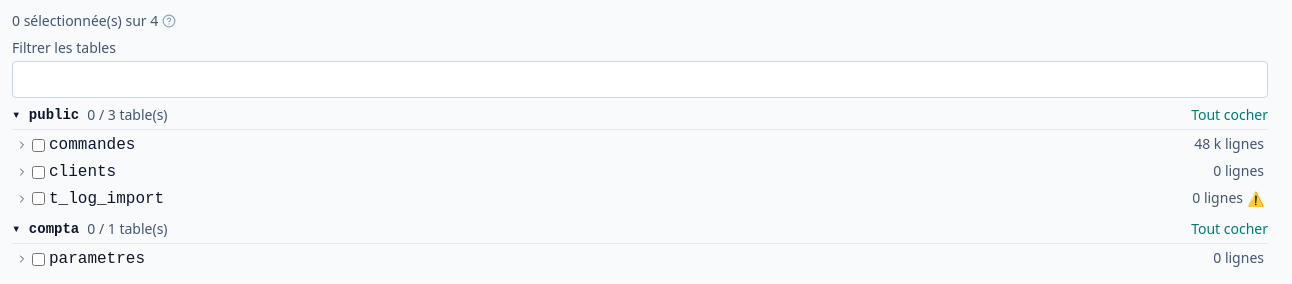
Test: TableTree › filtre à la frappe, sans rien demander au serveur
The image size is (1292, 284).
Type "log" into the field labelled "Filtrer les tables" at {"x": 640, "y": 80}, box [12,61,1268,98]
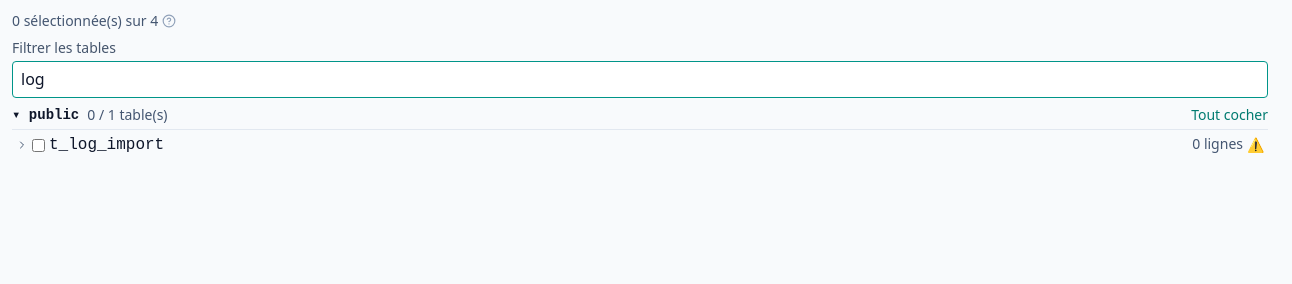
Expected: the text "t_log_import" is shown, [49,134,164,157]
Now the button "commandes" is gone
